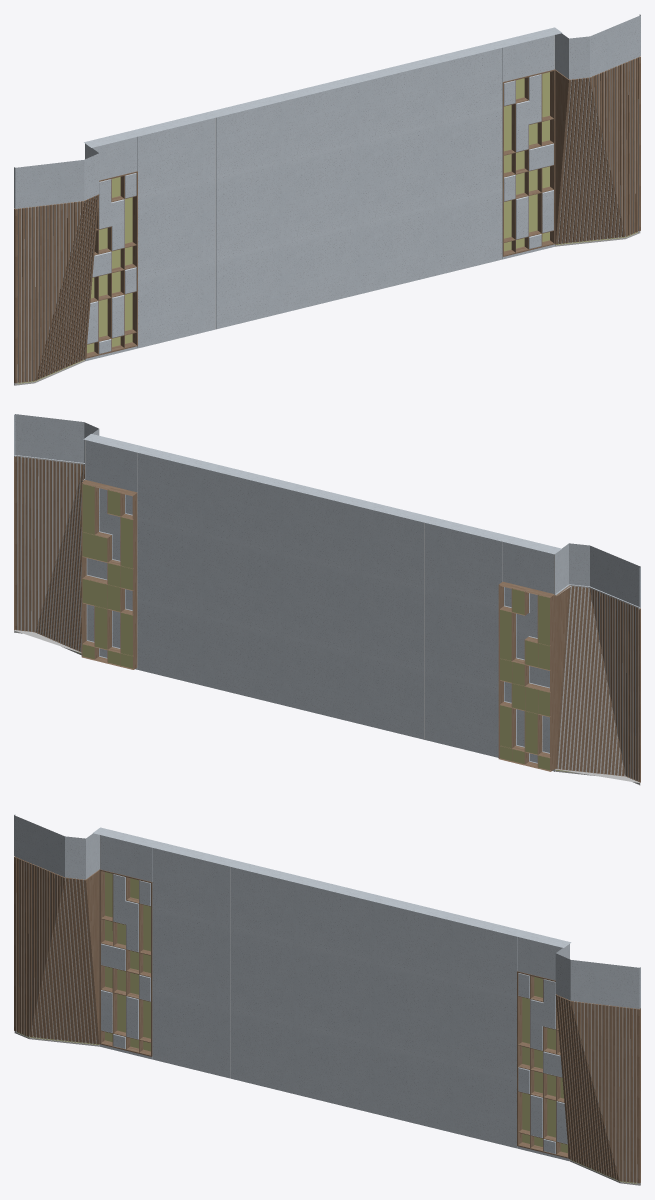
3 renders of one model, top to bottom at view 1: azimuth 30°, elevation 25°; view 2: azimuth 150°, elevation 25°; view 3: azimuth 330°, elevation 25°, orthographic.
Visible parts, largest first — view 1: M_W_002_d_24x8; view 2: M_W_002_d_24x8; view 3: M_W_002_d_24x8.
Part boxes in pixels (x1,y1,x2,y2): M_W_002_d_24x8: (14, 14, 640, 385); M_W_002_d_24x8: (14, 414, 640, 785); M_W_002_d_24x8: (14, 814, 640, 1185).
Size of the model in its own units: 24 by 8 by 1.39.
